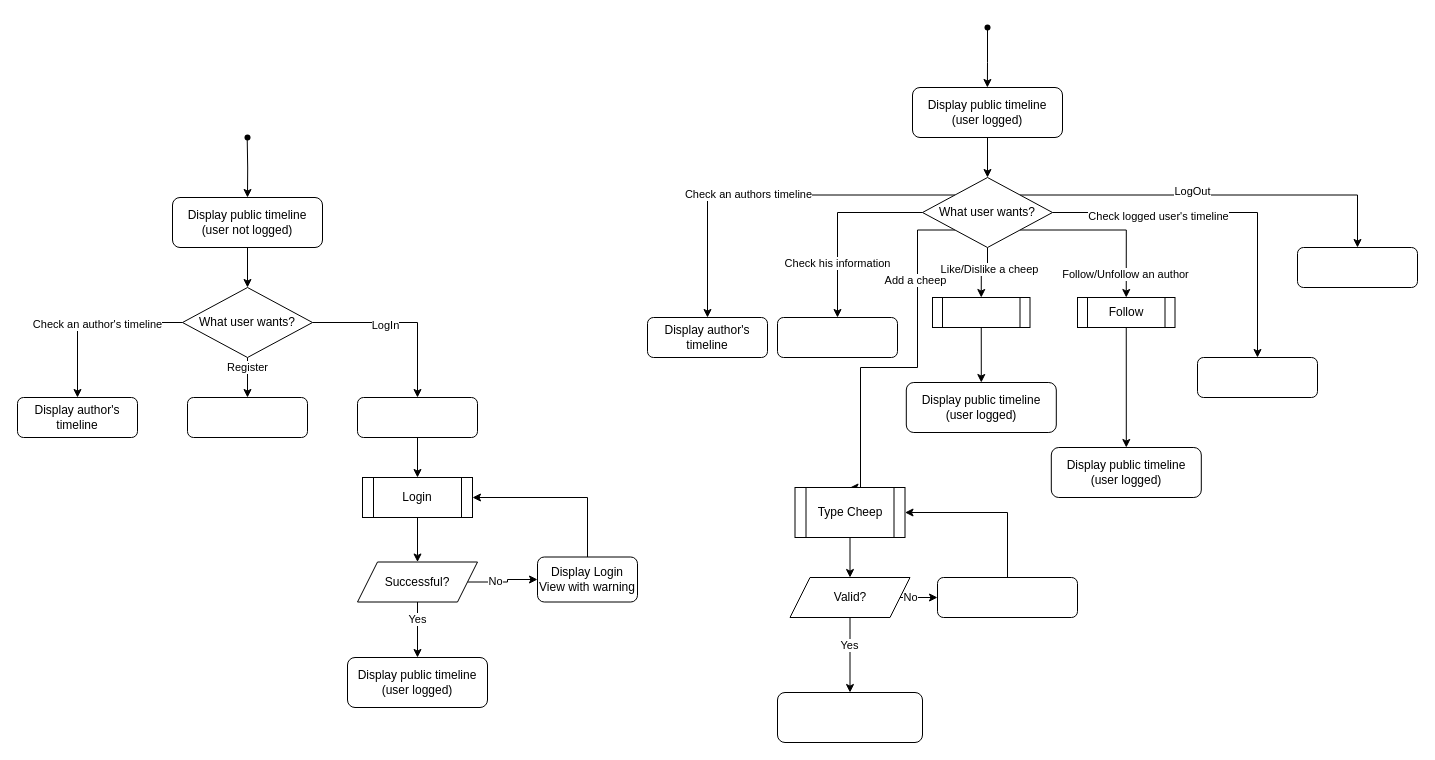
Image size: 1435x760. Some labels were removed from this diagram. The centre of each missing label's shape, as x and y in pixels:
"Diplay public timeline (users logged)" belongs at point (849, 717).
"Display AboutMe View" belongs at point (837, 337).
"Display Login View" belongs at point (417, 417).
"Display LogOut" belongs at point (1357, 267).
"Display public timeline with warning" belongs at point (1007, 597).
"Display Register View" belongs at point (247, 417).
"Display User's timeline" belongs at point (1257, 377).
"LIke" belongs at point (981, 312).
